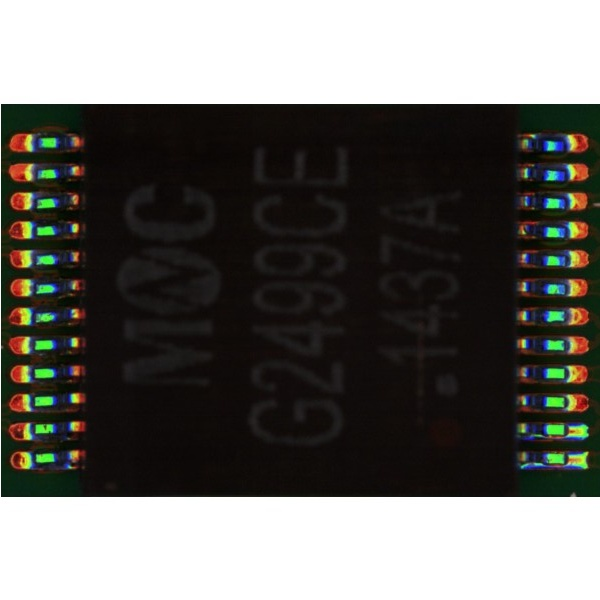Bad_qiaojiao: (517, 463, 564, 469), (528, 436, 564, 440)
